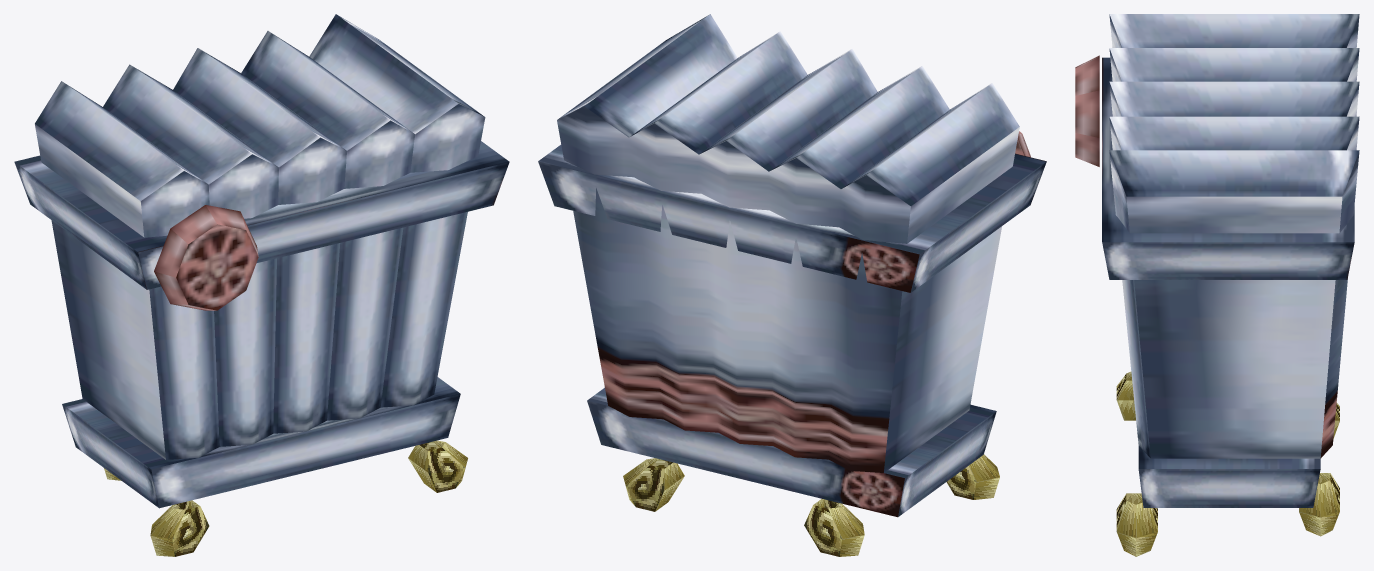
File: dan42.glb
The picture shows the model from 3 angles, left to right: view 1: azimuth 30°, elevation 25°; view 2: azimuth 150°, elevation 25°; view 3: azimuth 270°, elevation 25°; orthographic projection. The views are drawn at different scales.
Visible parts, largest first — view 1: dan42; view 2: dan42; view 3: dan42.
Part boxes in pixels (x1,y1,x2,y2): dan42: (14, 14, 509, 556); dan42: (538, 14, 1046, 556); dan42: (1075, 14, 1359, 556).
Size of the model in its own units: 180 by 181 by 117.
2 materials, 2 textured.
